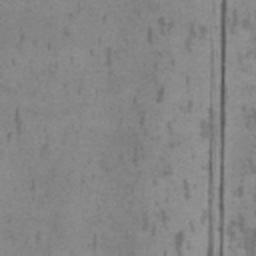Scratches: (207, 0, 227, 256)
